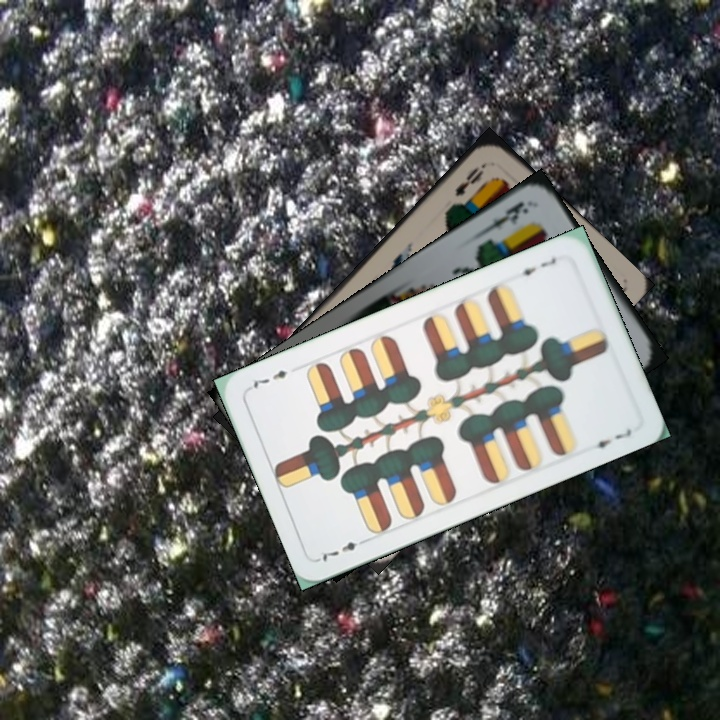E7: (315, 533, 371, 565), (511, 253, 559, 279)
EK: (479, 197, 531, 236)
EO: (450, 158, 490, 200)
